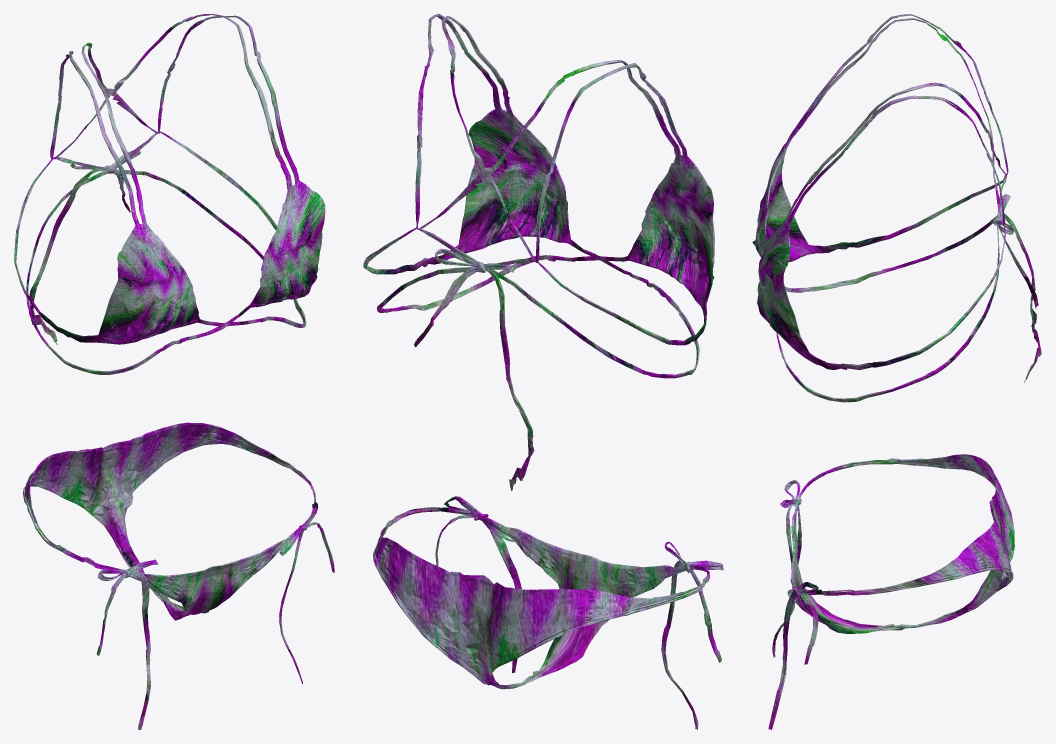
Rendered from mhw_elvs_all_tied_up_bikini.glb.
3 renders of one model, left to right at view 1: azimuth 30°, elevation 25°; view 2: azimuth 150°, elevation 25°; view 3: azimuth 270°, elevation 25°, orthographic. The views are drawn at different scales.
Visible parts, largest first — view 1: mhw_elvs_all_tied_up_bikini; view 2: mhw_elvs_all_tied_up_bikini; view 3: mhw_elvs_all_tied_up_bikini.
Boxes of the visible parts, x1=… form: mhw_elvs_all_tied_up_bikini: x1=14, y1=14, x2=334, y2=729; mhw_elvs_all_tied_up_bikini: x1=363, y1=14, x2=723, y2=729; mhw_elvs_all_tied_up_bikini: x1=752, y1=14, x2=1041, y2=729.
Bounding box in the file's own units: 0.331 × 0.7655 × 0.3105.
Materials: 1 (1 with a texture image).
